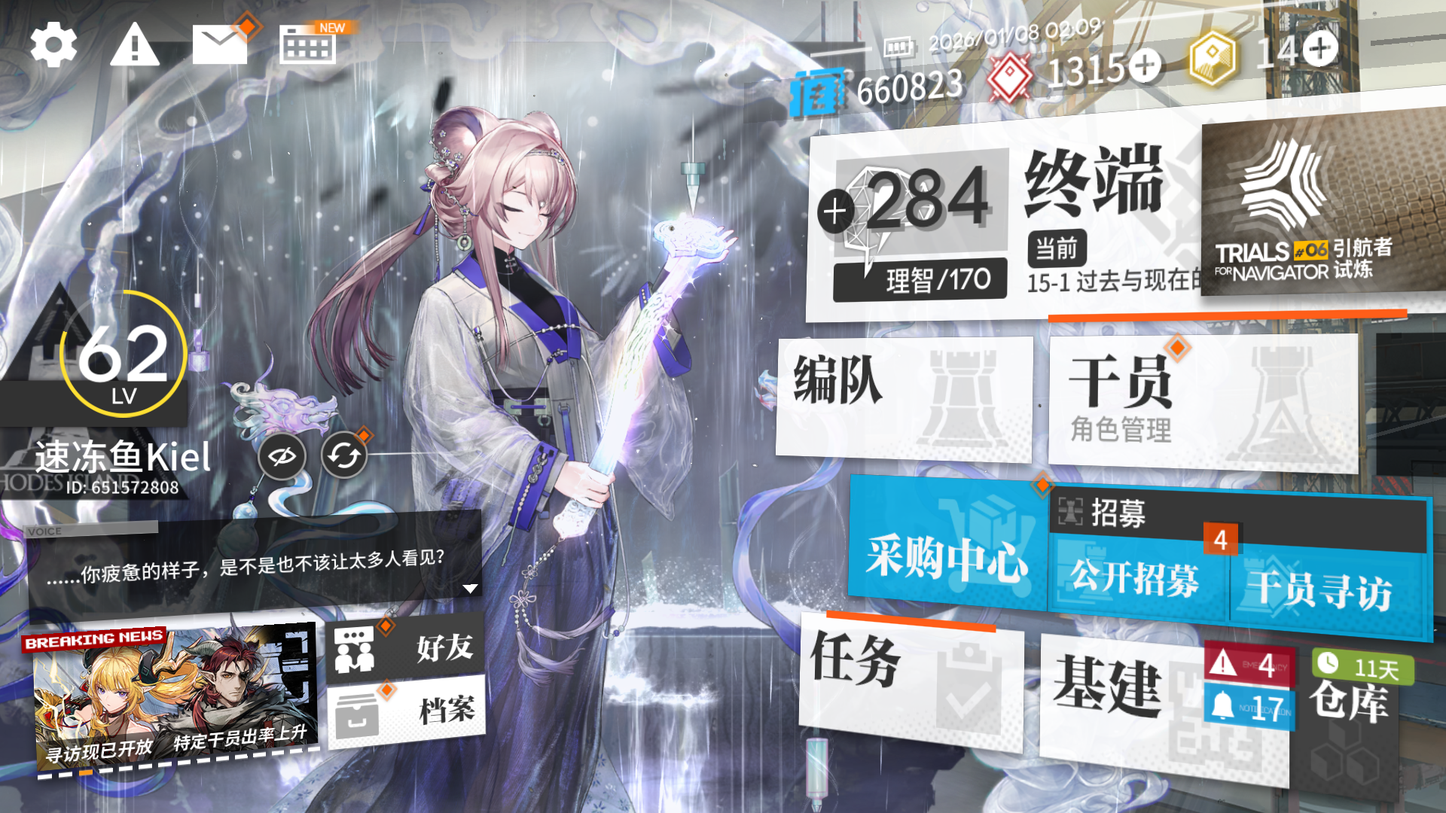home_button: (981, 123, 1164, 228)
infrastructure_button: (1039, 632, 1265, 778)
